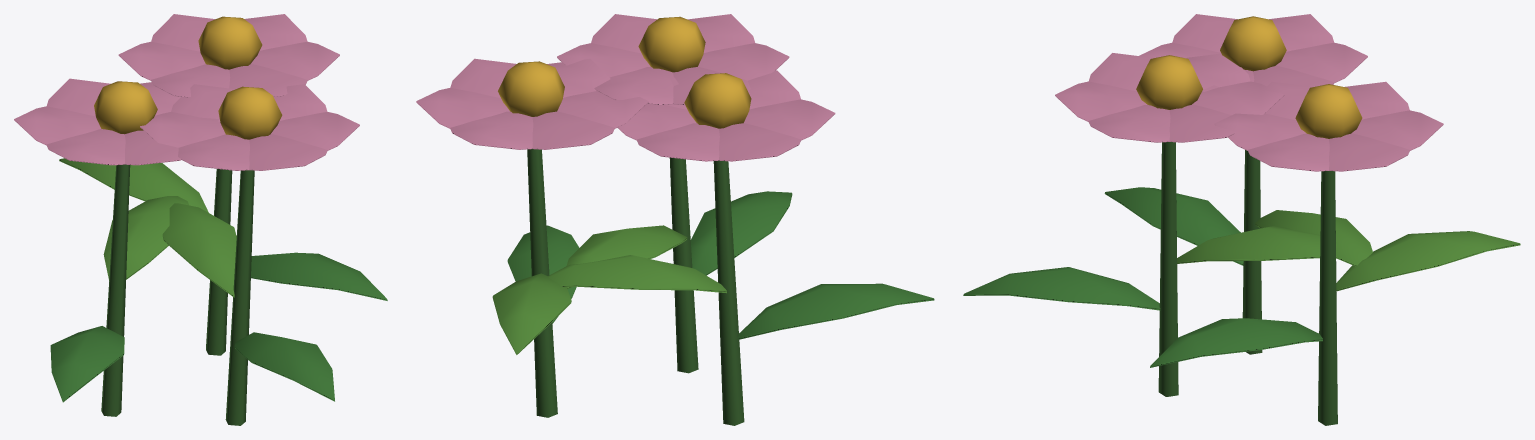
Rendered from cosmos.glb.
3 renders of one model, left to right at view 1: azimuth 30°, elevation 25°; view 2: azimuth 150°, elevation 25°; view 3: azimuth 270°, elevation 25°, orthographic. The views are drawn at different scales.
Parts seen in each view (by area): view 1: cosmos; view 2: cosmos; view 3: cosmos.
Boxes of the visible parts, x1,y1,x2,y2 form: cosmos: (14,14,387,425); cosmos: (416,14,934,425); cosmos: (963,14,1520,425).
Size of the model in its own units: 0.4664 by 0.4126 by 0.6081.
